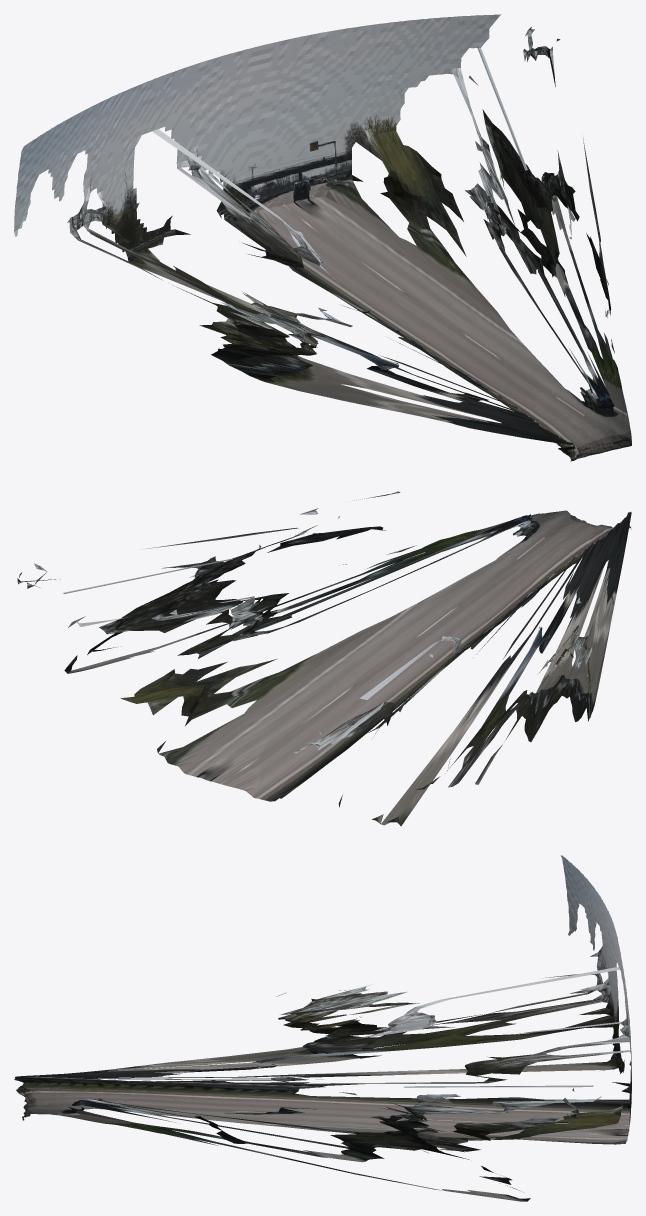
3 views of the same model, one above another, from view 1: azimuth 30°, elevation 25°; view 2: azimuth 150°, elevation 25°; view 3: azimuth 270°, elevation 25° (orthographic). The views are drawn at different scales.
Parts seen in each view (by area): view 1: defaultobject; view 2: defaultobject; view 3: defaultobject.
Boxes of the visible parts, x1,y1,x2,y2 form: defaultobject: [14, 14, 631, 461]; defaultobject: [17, 491, 631, 826]; defaultobject: [14, 855, 631, 1201].
Size of the model in its own units: 40.36 by 12.77 by 44.91.
Materials: 1 (1 with a texture image).
